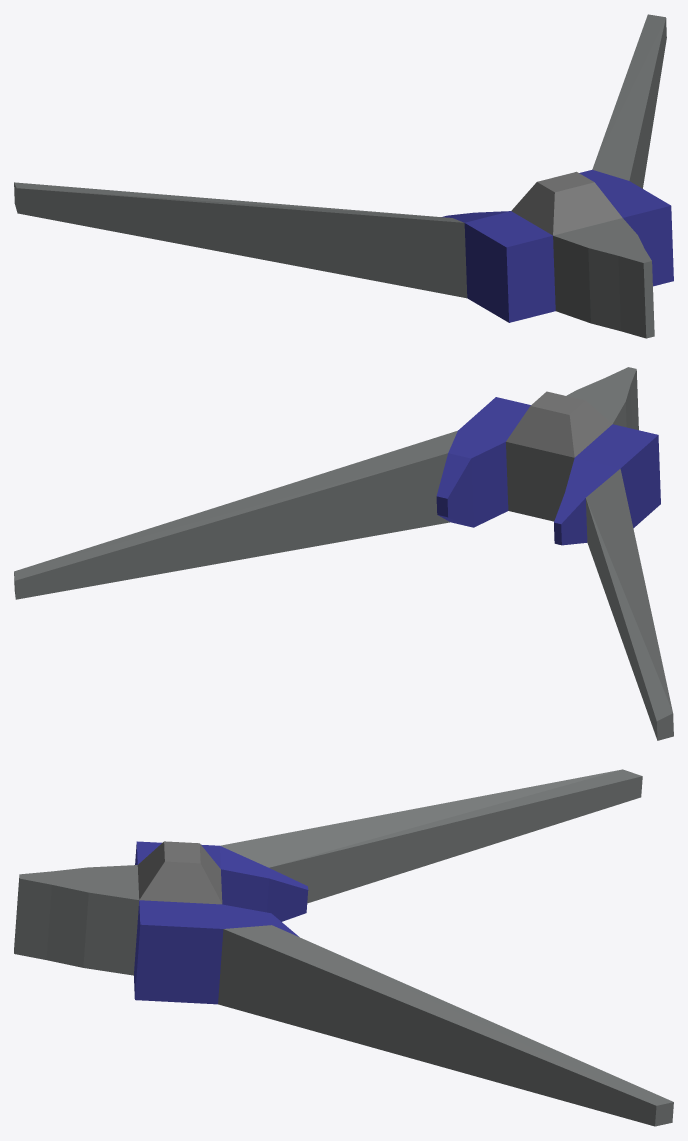
File: StarShip.fbx
3 views of the same model, one above another, from view 1: azimuth 30°, elevation 25°; view 2: azimuth 150°, elevation 25°; view 3: azimuth 270°, elevation 25° (orthographic). The views are drawn at different scales.
Visible parts, largest first — view 1: pCube1; view 2: pCube1; view 3: pCube1.
Part boxes in pixels (x1,y1,x2,y2): pCube1: (14,14,673,338); pCube1: (14,367,673,740); pCube1: (14,769,673,1126).
Size of the model in its own units: 9.45 by 1.51 by 7.92.
